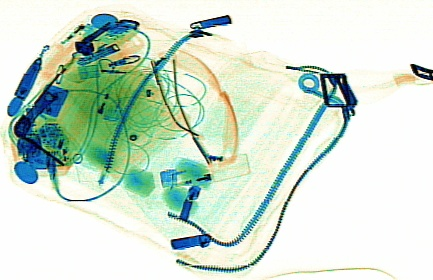lighter: (157, 152, 249, 190), (92, 56, 136, 122)
